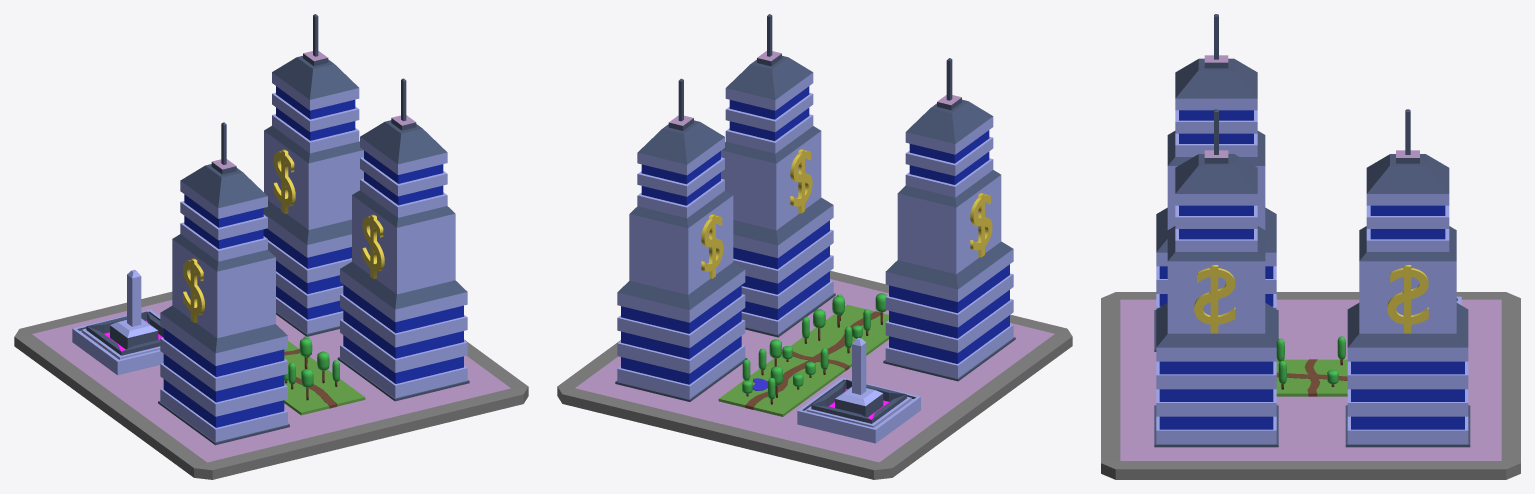
File: bankblock.fbx
The picture shows the model from 3 angles, left to right: view 1: azimuth 30°, elevation 25°; view 2: azimuth 150°, elevation 25°; view 3: azimuth 270°, elevation 25°; orthographic projection. The views are drawn at different scales.
Visible parts, largest first — view 1: BankBlock; view 2: BankBlock; view 3: BankBlock.
Boxes of the visible parts, x1=… form: BankBlock: x1=14, y1=14, x2=528, y2=479; BankBlock: x1=557, y1=14, x2=1072, y2=479; BankBlock: x1=1101, y1=14, x2=1520, y2=479.
Bounding box in the file's own units: 100 × 86.53 × 100.
